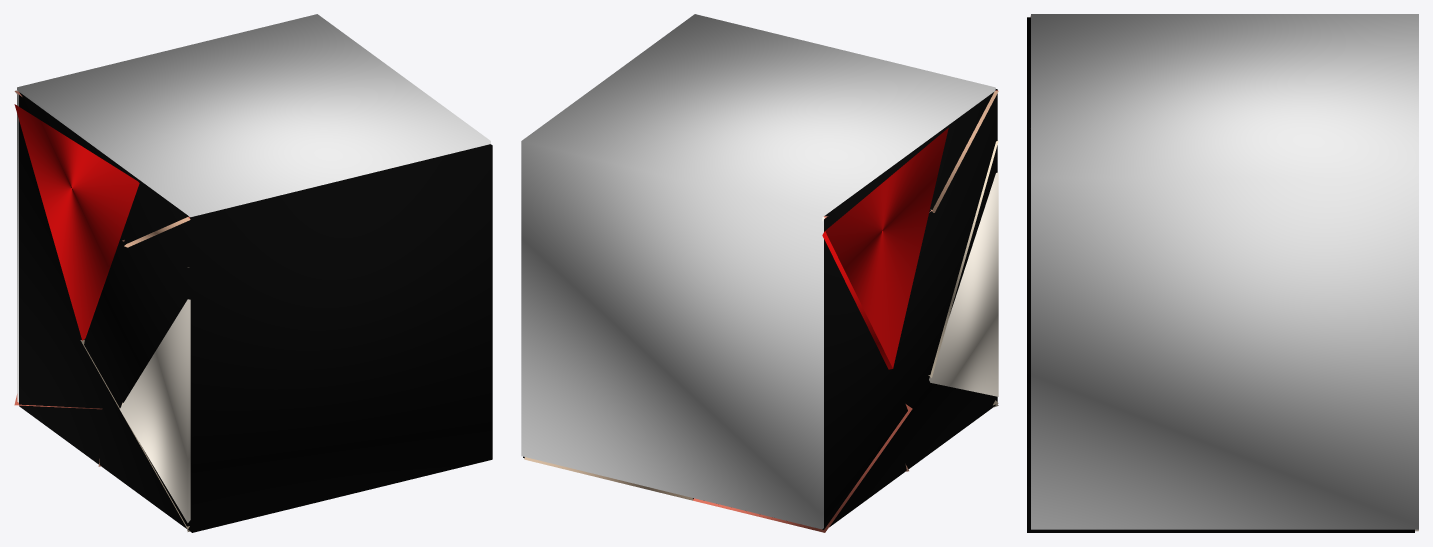
The picture shows the model from 3 angles, left to right: view 1: azimuth 30°, elevation 25°; view 2: azimuth 150°, elevation 25°; view 3: azimuth 270°, elevation 25°; orthographic projection. The views are drawn at different scales.
Visible parts, largest first — view 1: Renderer Node; view 2: Renderer Node; view 3: Renderer Node.
Boxes of the visible parts, x1,y1,x2,y2 form: Renderer Node: [14, 14, 492, 532]; Renderer Node: [521, 14, 998, 532]; Renderer Node: [1027, 14, 1418, 532].
Size of the model in its own units: 1.7 by 1.71 by 1.71.
